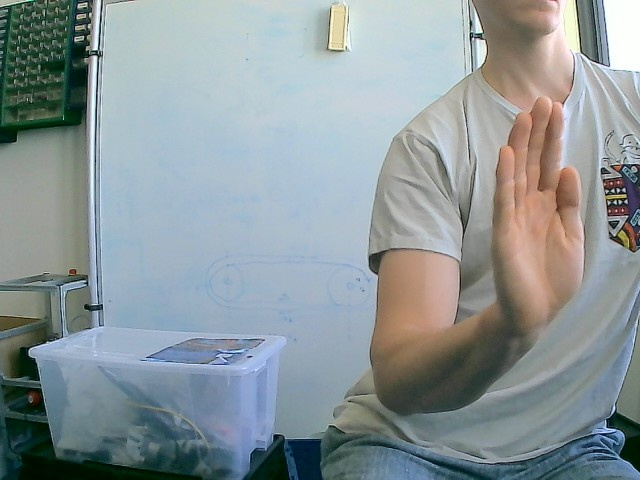stop: (489, 95, 586, 334)
